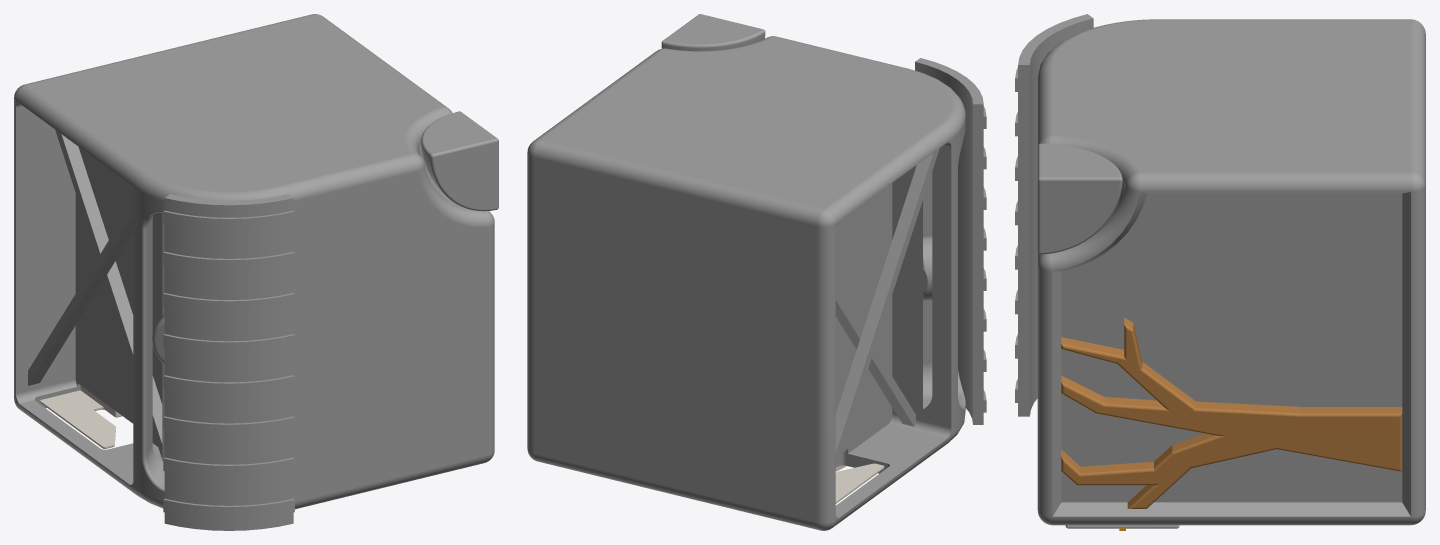
3 views of the same model, side by side, from view 1: azimuth 30°, elevation 25°; view 2: azimuth 150°, elevation 25°; view 3: azimuth 270°, elevation 25° (orthographic). The views are drawn at different scales.
Visible parts, largest first — view 1: Body1, Body3, Body5, Body9, Body7, Body4; view 2: Body1, Body3, Body7, Body5, Body9, Body4, Body6; view 3: Body1, Body13, Body3, Body5.
Boxes of the visible parts, box(x1,y1,x2,y2) form: Body1: box(14, 14, 494, 509); Body3: box(163, 194, 294, 530); Body5: box(421, 111, 498, 211); Body9: box(55, 130, 162, 458); Body7: box(28, 201, 133, 385); Body4: box(40, 386, 122, 448); Body1: box(527, 36, 965, 530); Body3: box(915, 58, 986, 424); Body7: box(835, 148, 939, 467); Body5: box(661, 14, 765, 51); Body9: box(835, 285, 915, 426); Body4: box(835, 463, 884, 503); Body6: box(923, 236, 932, 300); Body1: box(1037, 19, 1425, 525); Body13: box(1061, 317, 1402, 508); Body3: box(1015, 14, 1093, 416); Body5: box(1037, 143, 1122, 254).
Size of the model in its own units: 132 by 133 by 138.
